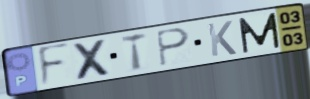F: (36, 41, 72, 91)
K: (205, 19, 239, 59)
M: (236, 11, 282, 55)
P: (154, 27, 192, 69)
T: (120, 31, 149, 74)
X: (69, 37, 116, 82)
